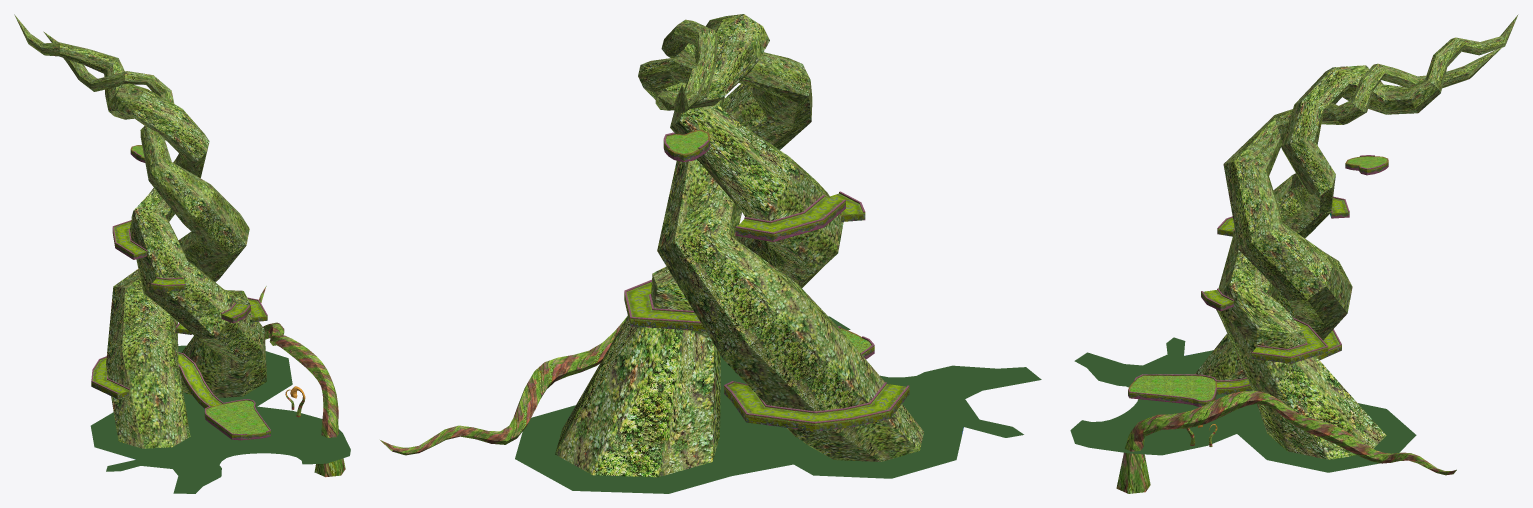
File: Lost Jungle 3.obj
3 renders of one model, left to right at view 1: azimuth 30°, elevation 25°; view 2: azimuth 150°, elevation 25°; view 3: azimuth 270°, elevation 25°, orthographic. The views are drawn at different scales.
Visible parts, largest first — view 1: Object_2.001, Object_2, Object_2.002; view 2: Object_2.001, Object_2, Object_2.002; view 3: Object_2.001, Object_2, Object_2.002.
Part boxes in pixels (x1,y1,x2,y2): Object_2.001: (14,14,345,477); Object_2: (90,345,350,493); Object_2.002: (92,145,268,434); Object_2.001: (380,14,923,477); Object_2: (515,316,1041,493); Object_2.002: (626,130,906,421); Object_2.001: (1116,14,1518,493); Object_2: (1070,337,1416,472); Object_2.002: (1129,156,1387,400).
Bounding box in the file's own units: 1604 × 1916 × 1958.
Materials: 11 (11 with a texture image).
